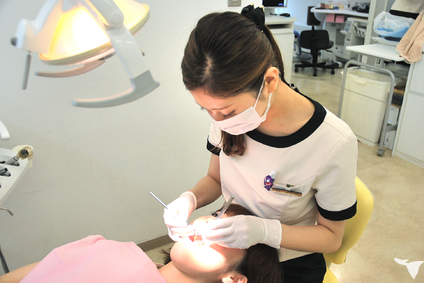mask: (208, 103, 273, 137)
